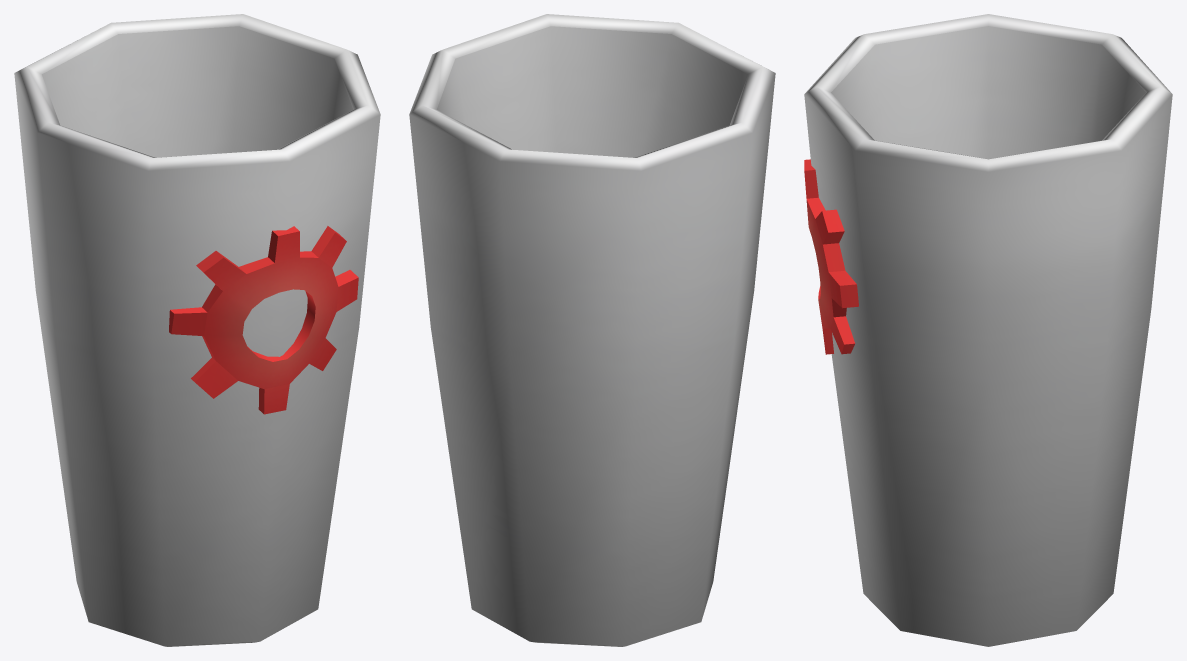
Rendered from M_Prop_Cup_001.fbx.
3 views of the same model, side by side, from view 1: azimuth 30°, elevation 25°; view 2: azimuth 150°, elevation 25°; view 3: azimuth 270°, elevation 25° (orthographic).
Visible parts, largest first — view 1: Cup; view 2: Cup; view 3: Cup.
Part boxes in pixels (x1,y1,x2,y2): Cup: (14, 14, 380, 646); Cup: (409, 14, 775, 646); Cup: (804, 14, 1172, 646).
Size of the model in its own units: 29.42 by 45.22 by 29.42.
